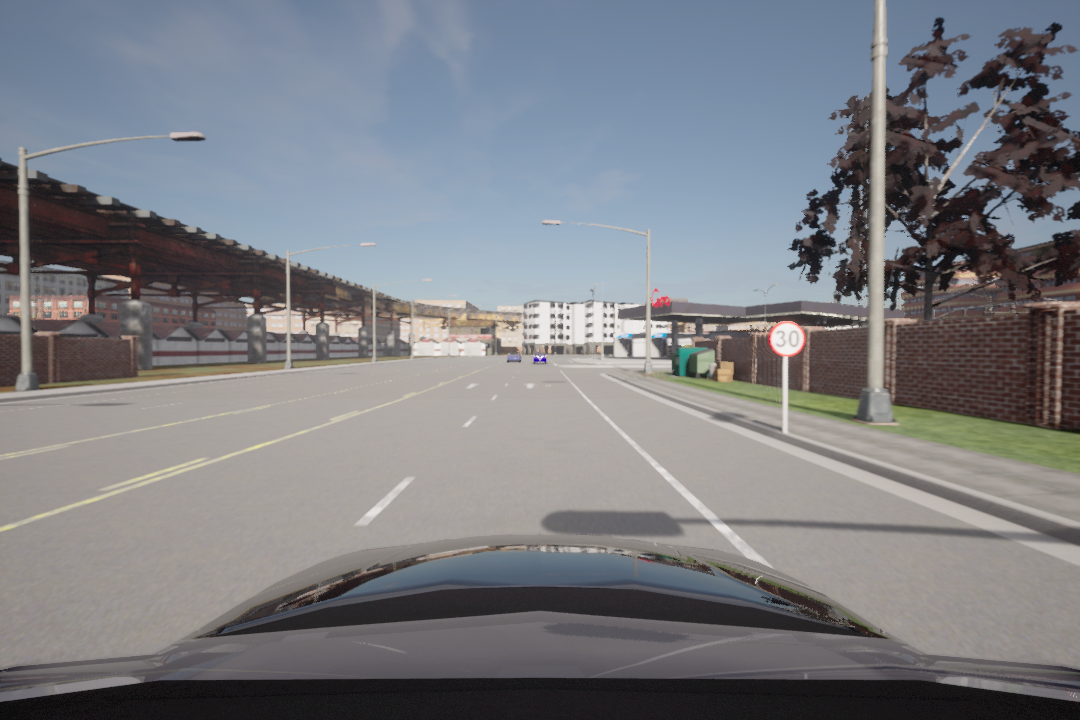TrafficSign_speed: (767, 320, 805, 358)
